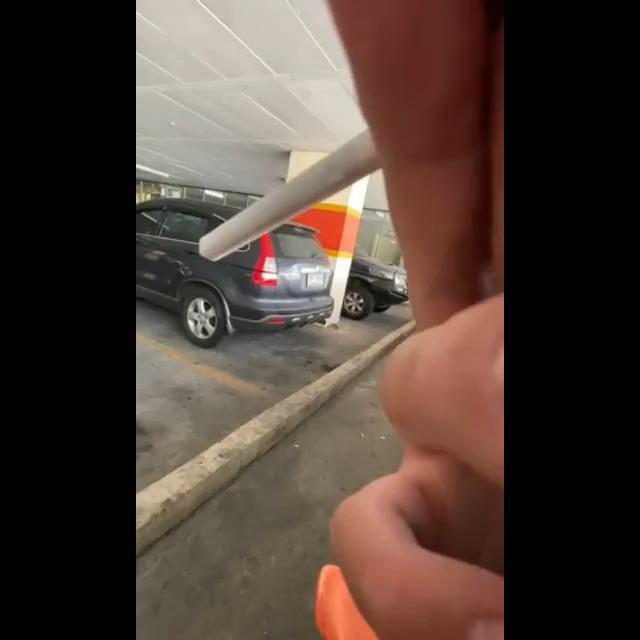rokok: (188, 139, 396, 261)
